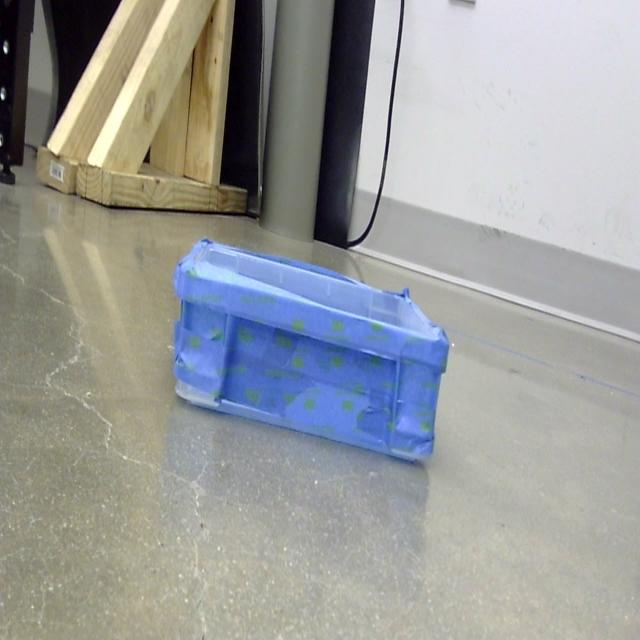bucket: (173, 239, 450, 465)
